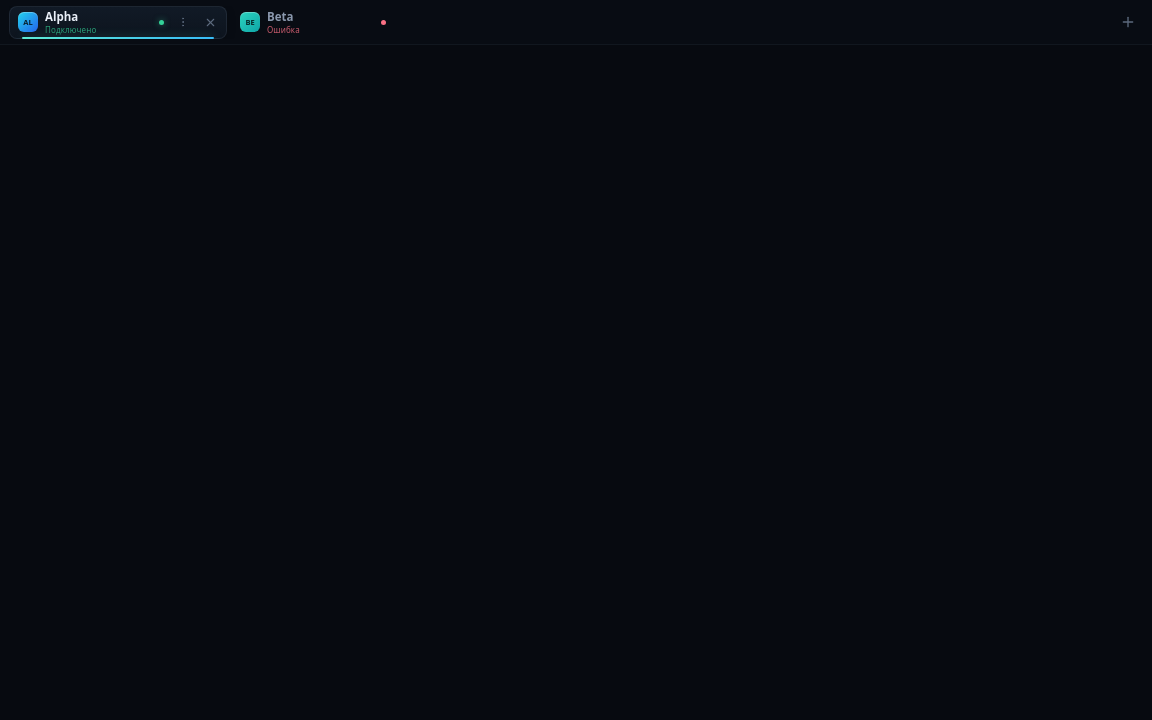
Test: TabBar › закрывает меню по клику вне и по скроллу
This screenshot has width=1152, height=720.
Later steps or results of the test are not shown.
Click the button named "Меню вкладки" at coordinates (181, 22), box [171, 12, 191, 32]
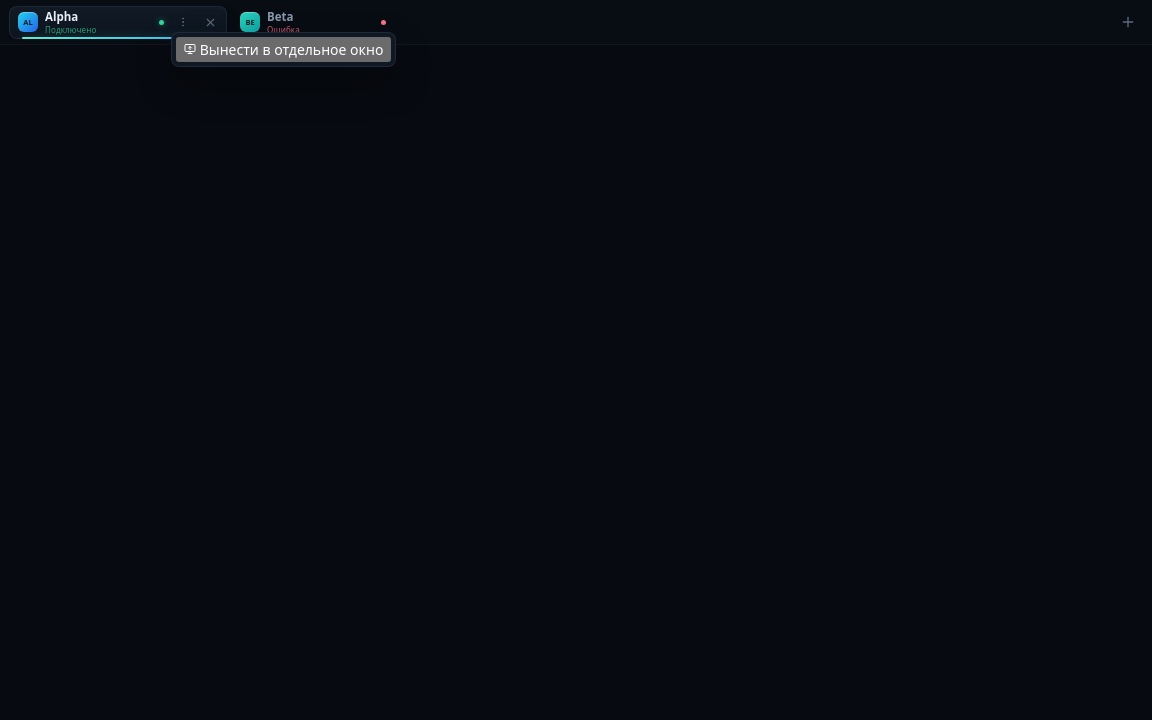
Result: the button "Вынести в отдельное окно" is shown at [176, 37, 391, 62]
Press the mouse on the element showing "AL Alpha Подключено BE Beta Ошибка Вынести в отдельное окно" at coordinates (576, 360), box [0, 0, 1151, 719]
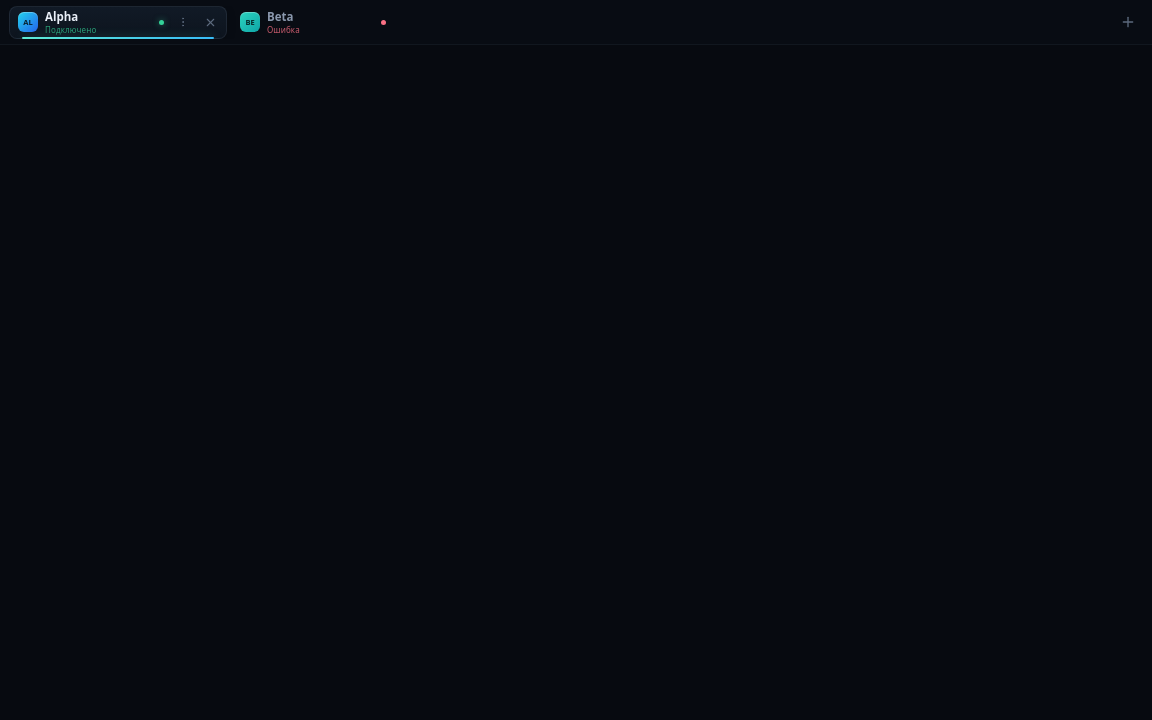
Result: the button "Вынести в отдельное окно" is gone
